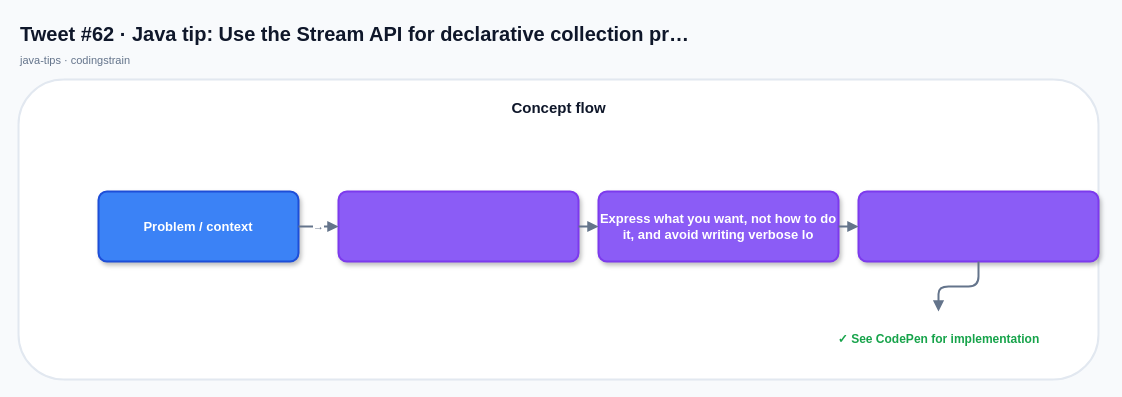
This 1122x397 diagram has some shape labels left out. The shapes that lost their labels are listed below. From the top down, each one's centre as x and y in pixels, then its label:
At [459,227]: "💡Java tip: Use the Stream API for declarative collection processing.".
At [979,227]: "#Java #Collections".
